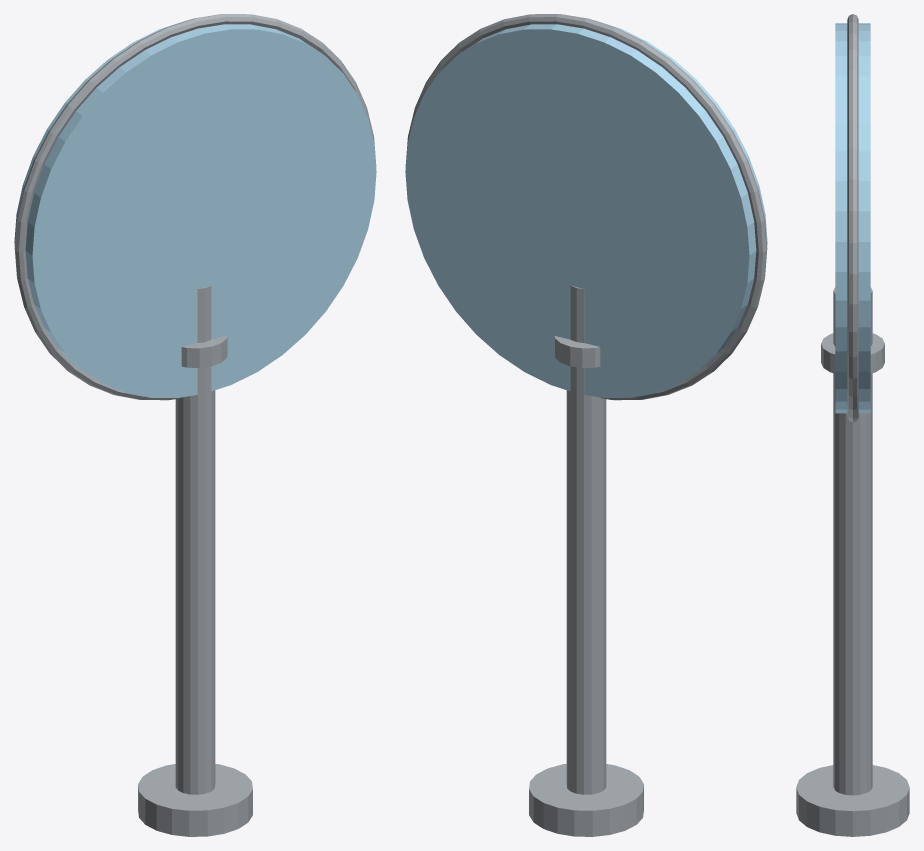
File: state-fair-pin-blue-ribbon-book-cart.glb
The picture shows the model from 3 angles, left to right: view 1: azimuth 30°, elevation 25°; view 2: azimuth 150°, elevation 25°; view 3: azimuth 270°, elevation 25°; orthographic projection.
Visible parts, largest first — view 1: SFPIN_SignDisc, SFPIN_Post, SFPIN_Rim, SFPIN_Base, SFPIN_Collar; view 2: SFPIN_SignDisc, SFPIN_Post, SFPIN_Rim, SFPIN_Base, SFPIN_Collar; view 3: SFPIN_Post, SFPIN_SignDisc, SFPIN_Base, SFPIN_Rim, SFPIN_Collar.
Part boxes in pixels (x1=…): SFPIN_SignDisc: x1=14, y1=20, x2=376, y2=397; SFPIN_Post: x1=175, y1=286, x2=215, y2=794; SFPIN_Rim: x1=14, y1=14, x2=376, y2=400; SFPIN_Base: x1=138, y1=764, x2=252, y2=836; SFPIN_Collar: x1=181, y1=336, x2=227, y2=367; SFPIN_SignDisc: x1=405, y1=20, x2=767, y2=397; SFPIN_Post: x1=566, y1=286, x2=606, y2=794; SFPIN_Rim: x1=405, y1=14, x2=767, y2=400; SFPIN_Base: x1=529, y1=764, x2=643, y2=836; SFPIN_Collar: x1=554, y1=336, x2=600, y2=367; SFPIN_Post: x1=833, y1=287, x2=872, y2=795; SFPIN_SignDisc: x1=835, y1=23, x2=870, y2=413; SFPIN_Base: x1=796, y1=765, x2=909, y2=836; SFPIN_Rim: x1=847, y1=14, x2=858, y2=422; SFPIN_Collar: x1=821, y1=333, x2=884, y2=373.
Size of the model in its own units: 1.15 by 2.43 by 0.32.
